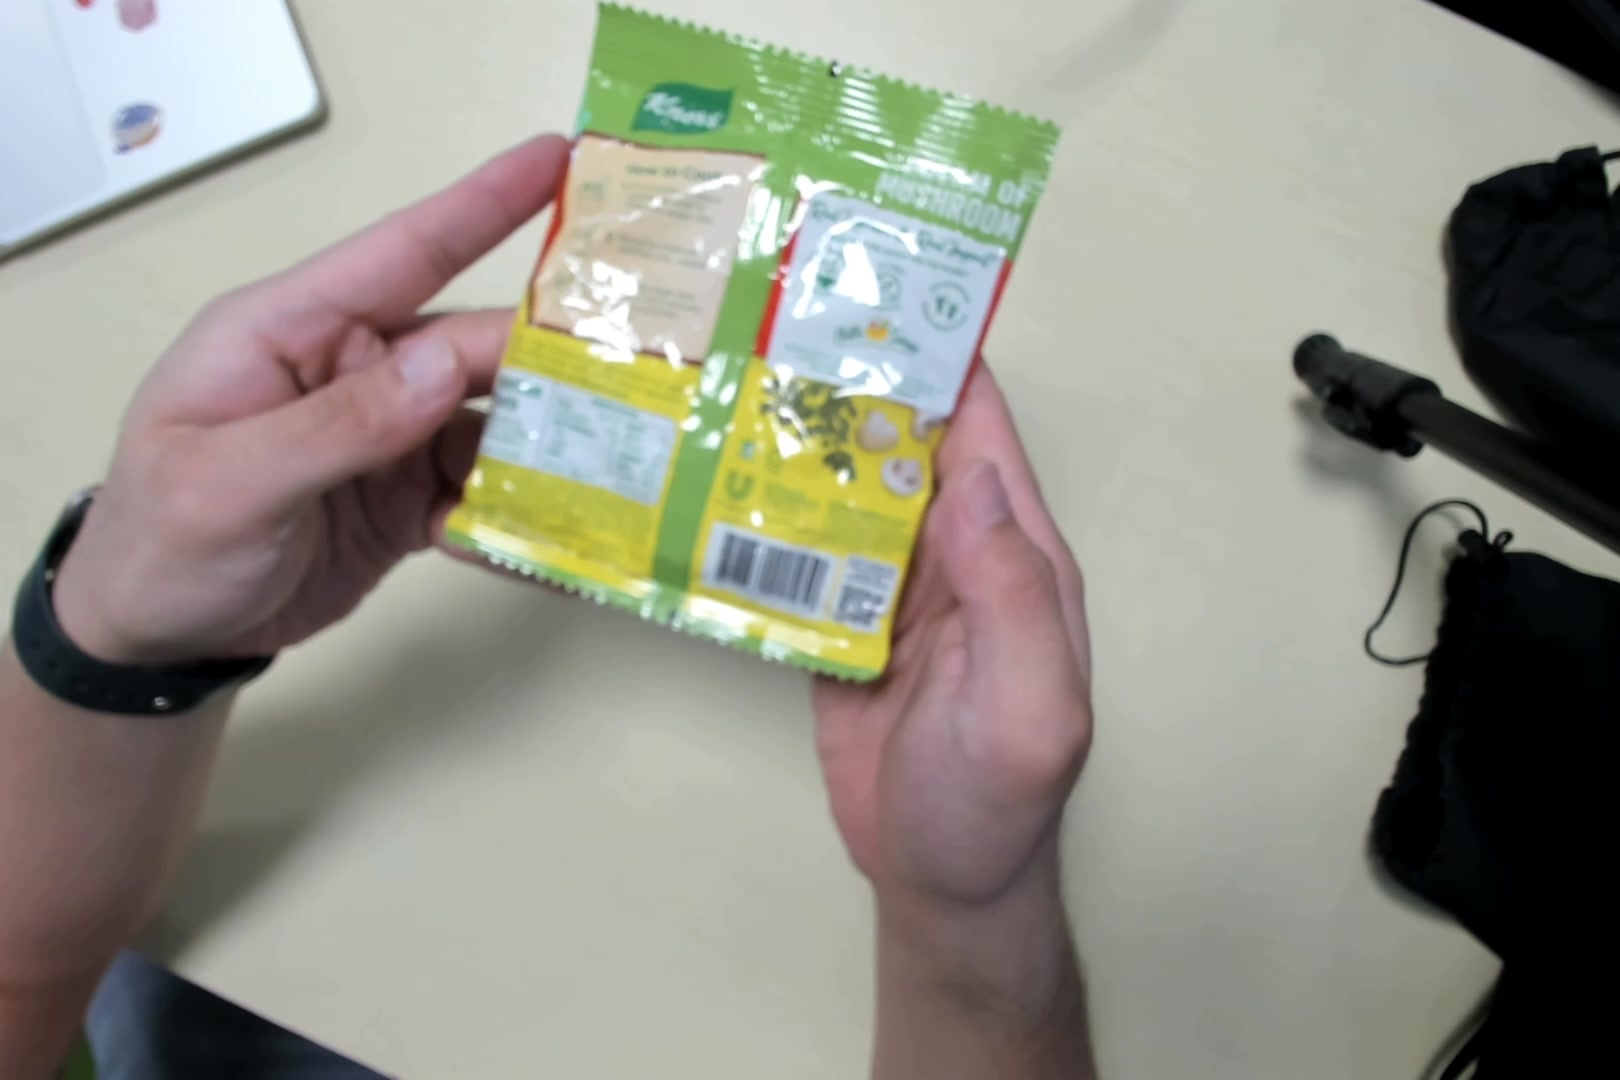OtherBakingNeeds_0-99g_NonHalal_NonHealthy: (441, 4, 1053, 694)
